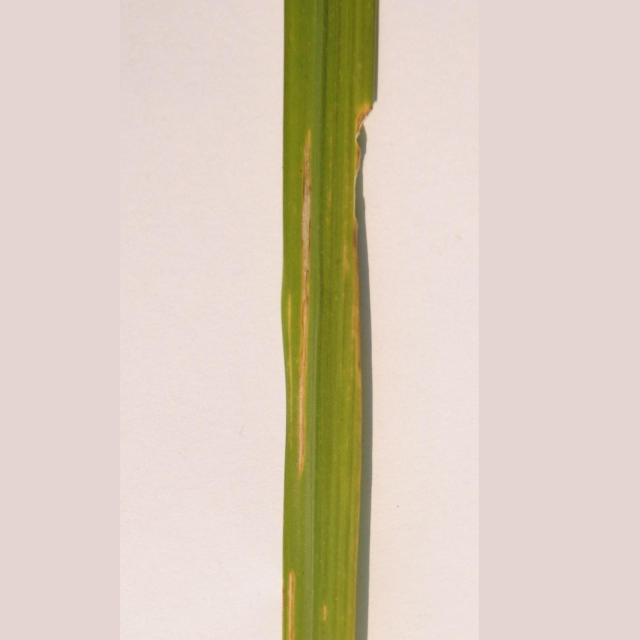Bacterial leaf blight: (344, 92, 384, 472), (286, 122, 317, 486), (280, 561, 306, 640), (318, 594, 347, 640)
